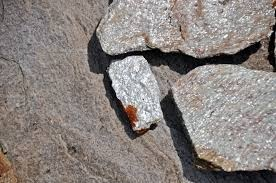obstacle: (108, 56, 161, 133)
